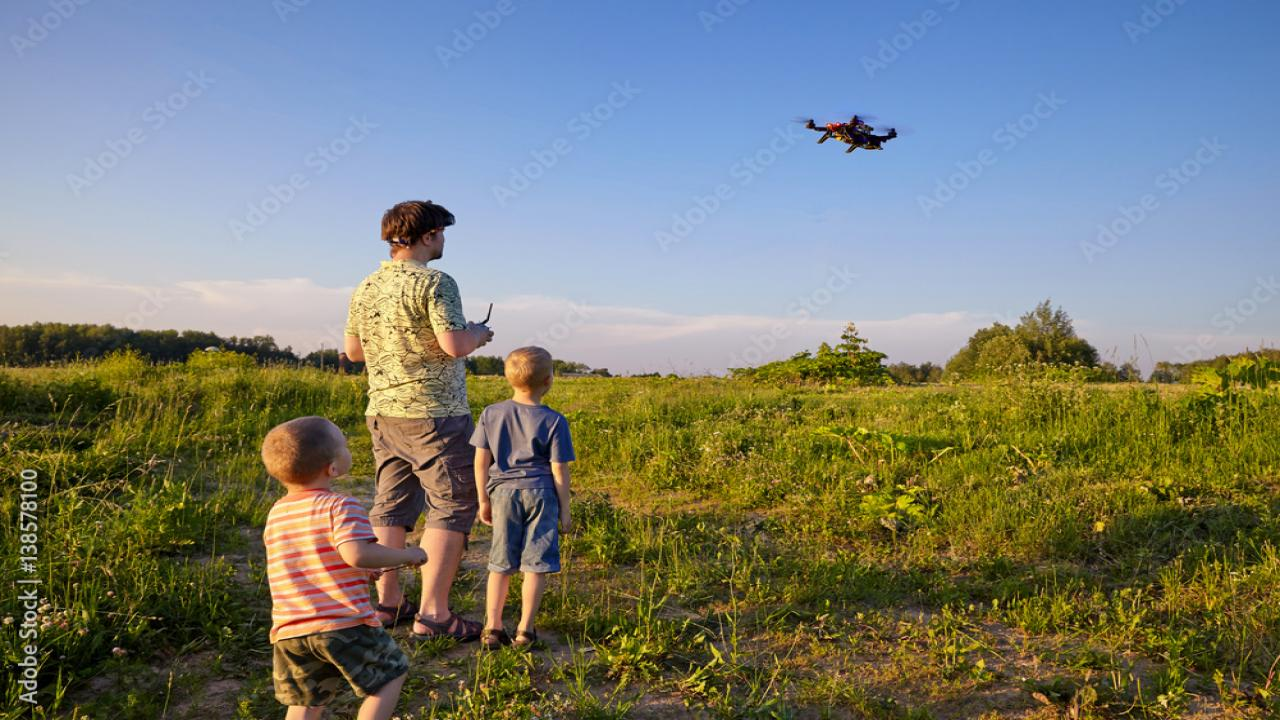Drone: (782, 104, 913, 166)
